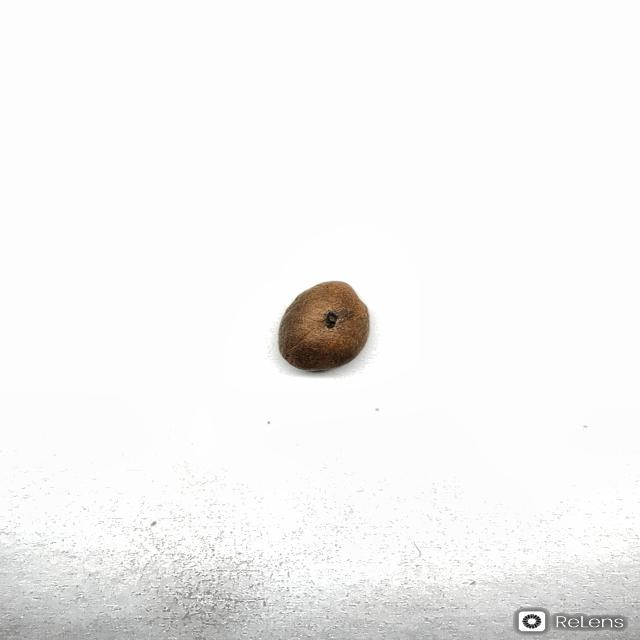Insect damage: (276, 280, 371, 372)
